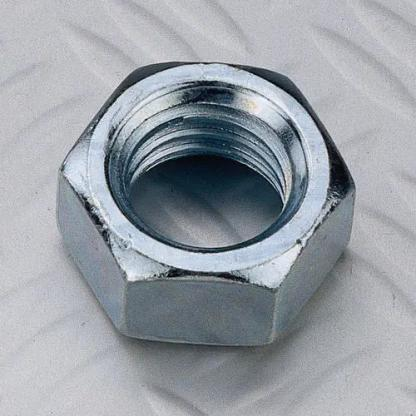FOD: (57, 48, 376, 360)
